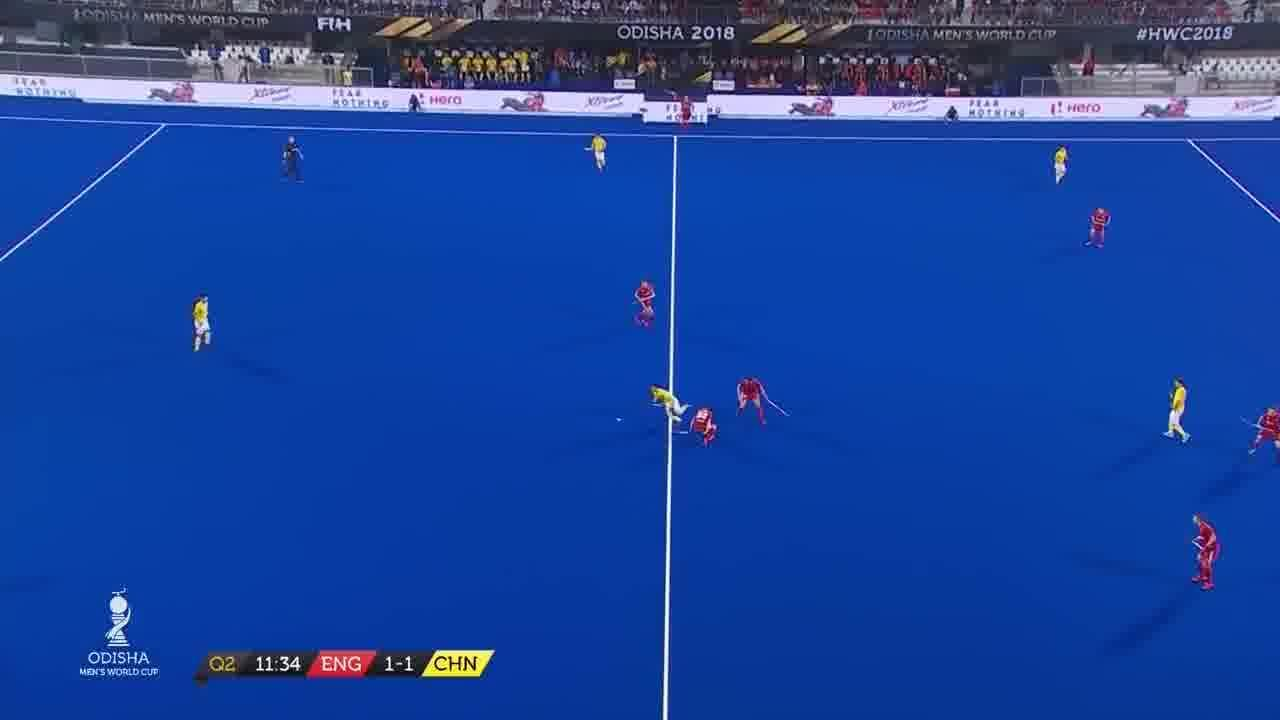ball: (612, 413, 628, 430)
